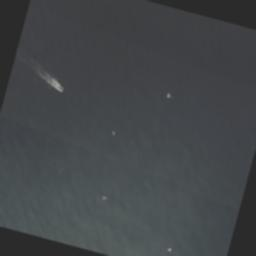boat: (56, 85, 64, 91), (167, 92, 172, 98), (166, 246, 170, 251), (102, 196, 107, 200), (111, 130, 115, 134)
